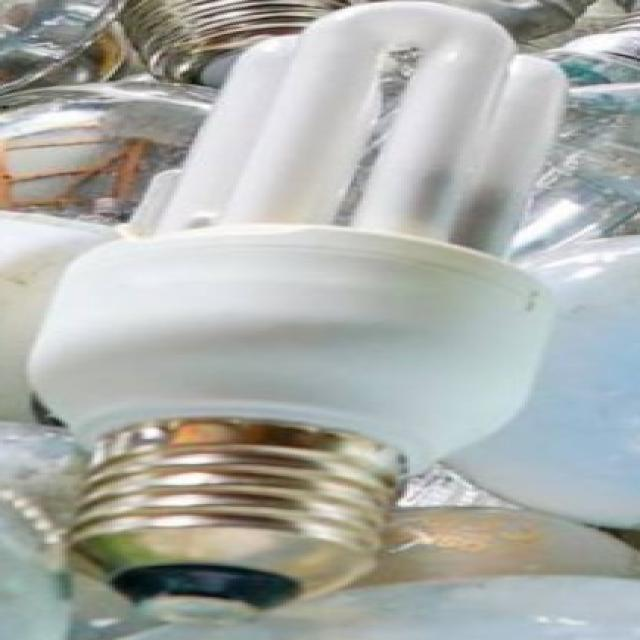bulb: (35, 0, 640, 618)
